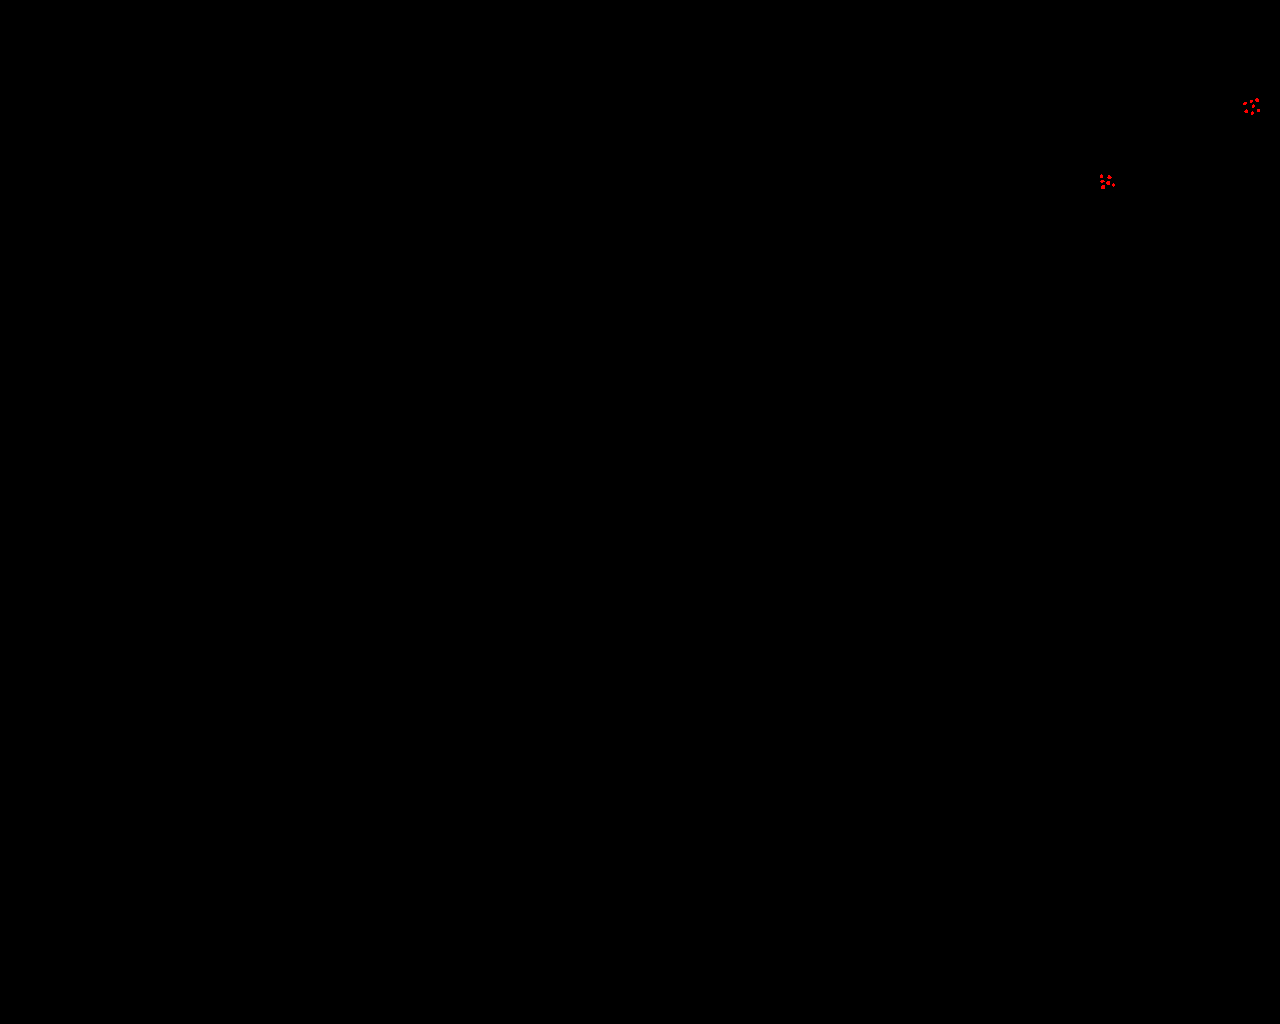Target: (1107, 174, 1112, 179), (1255, 98, 1259, 102), (1106, 181, 1110, 185), (1101, 185, 1106, 189), (1100, 180, 1106, 183), (1244, 109, 1248, 113), (1251, 111, 1254, 115), (1112, 183, 1115, 187), (1250, 100, 1253, 103), (1252, 104, 1255, 108), (1257, 109, 1260, 112), (1100, 174, 1103, 178), (1243, 102, 1247, 104)
